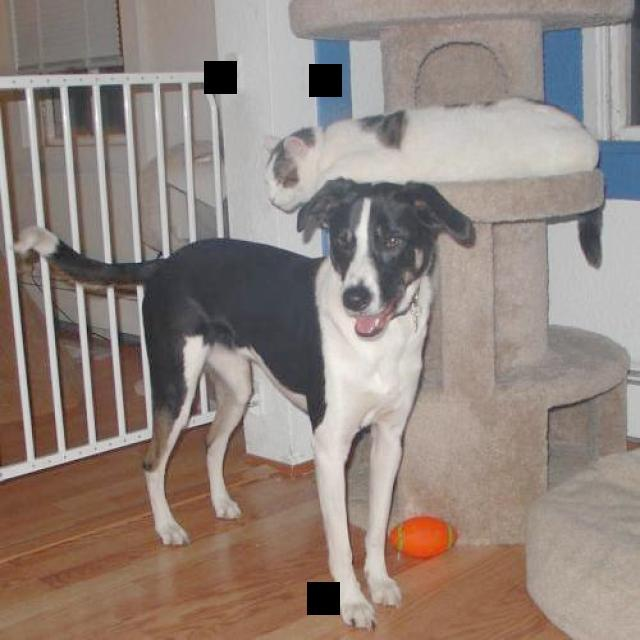adult_dog: (16, 170, 478, 629)
non-dog: (263, 94, 605, 268)
